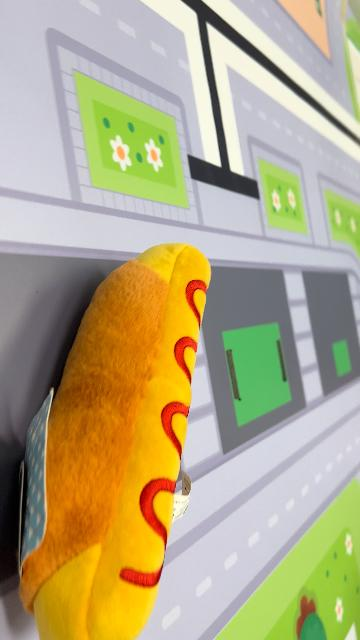hotdog: (18, 242, 214, 638)
